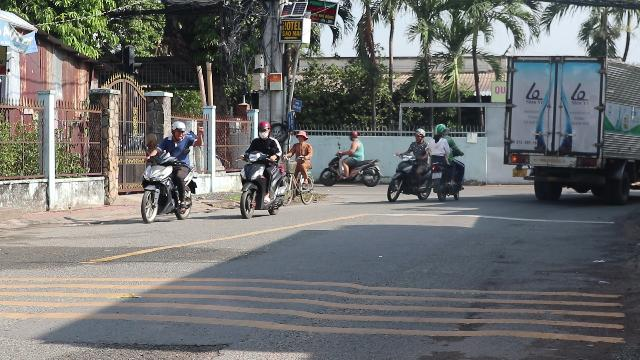helmet: (169, 120, 185, 138), (257, 121, 271, 137)
motorcyclist: (137, 119, 197, 223), (236, 120, 290, 220)
